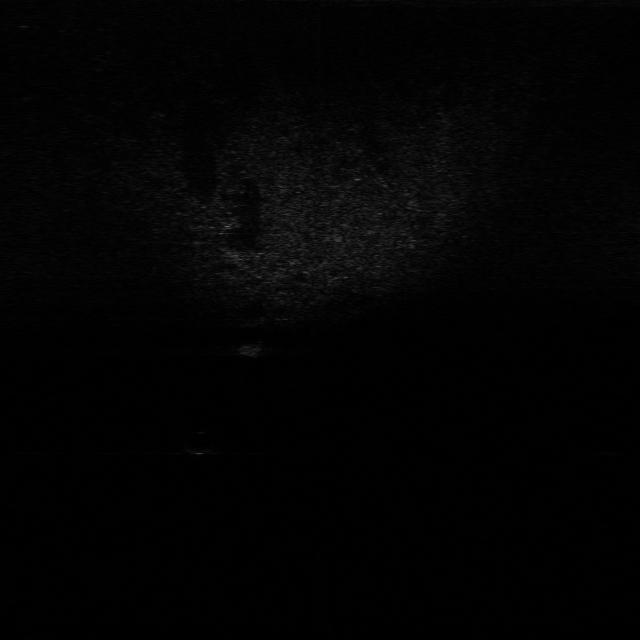ball: (181, 426, 223, 458)
cube: (237, 337, 264, 359)
